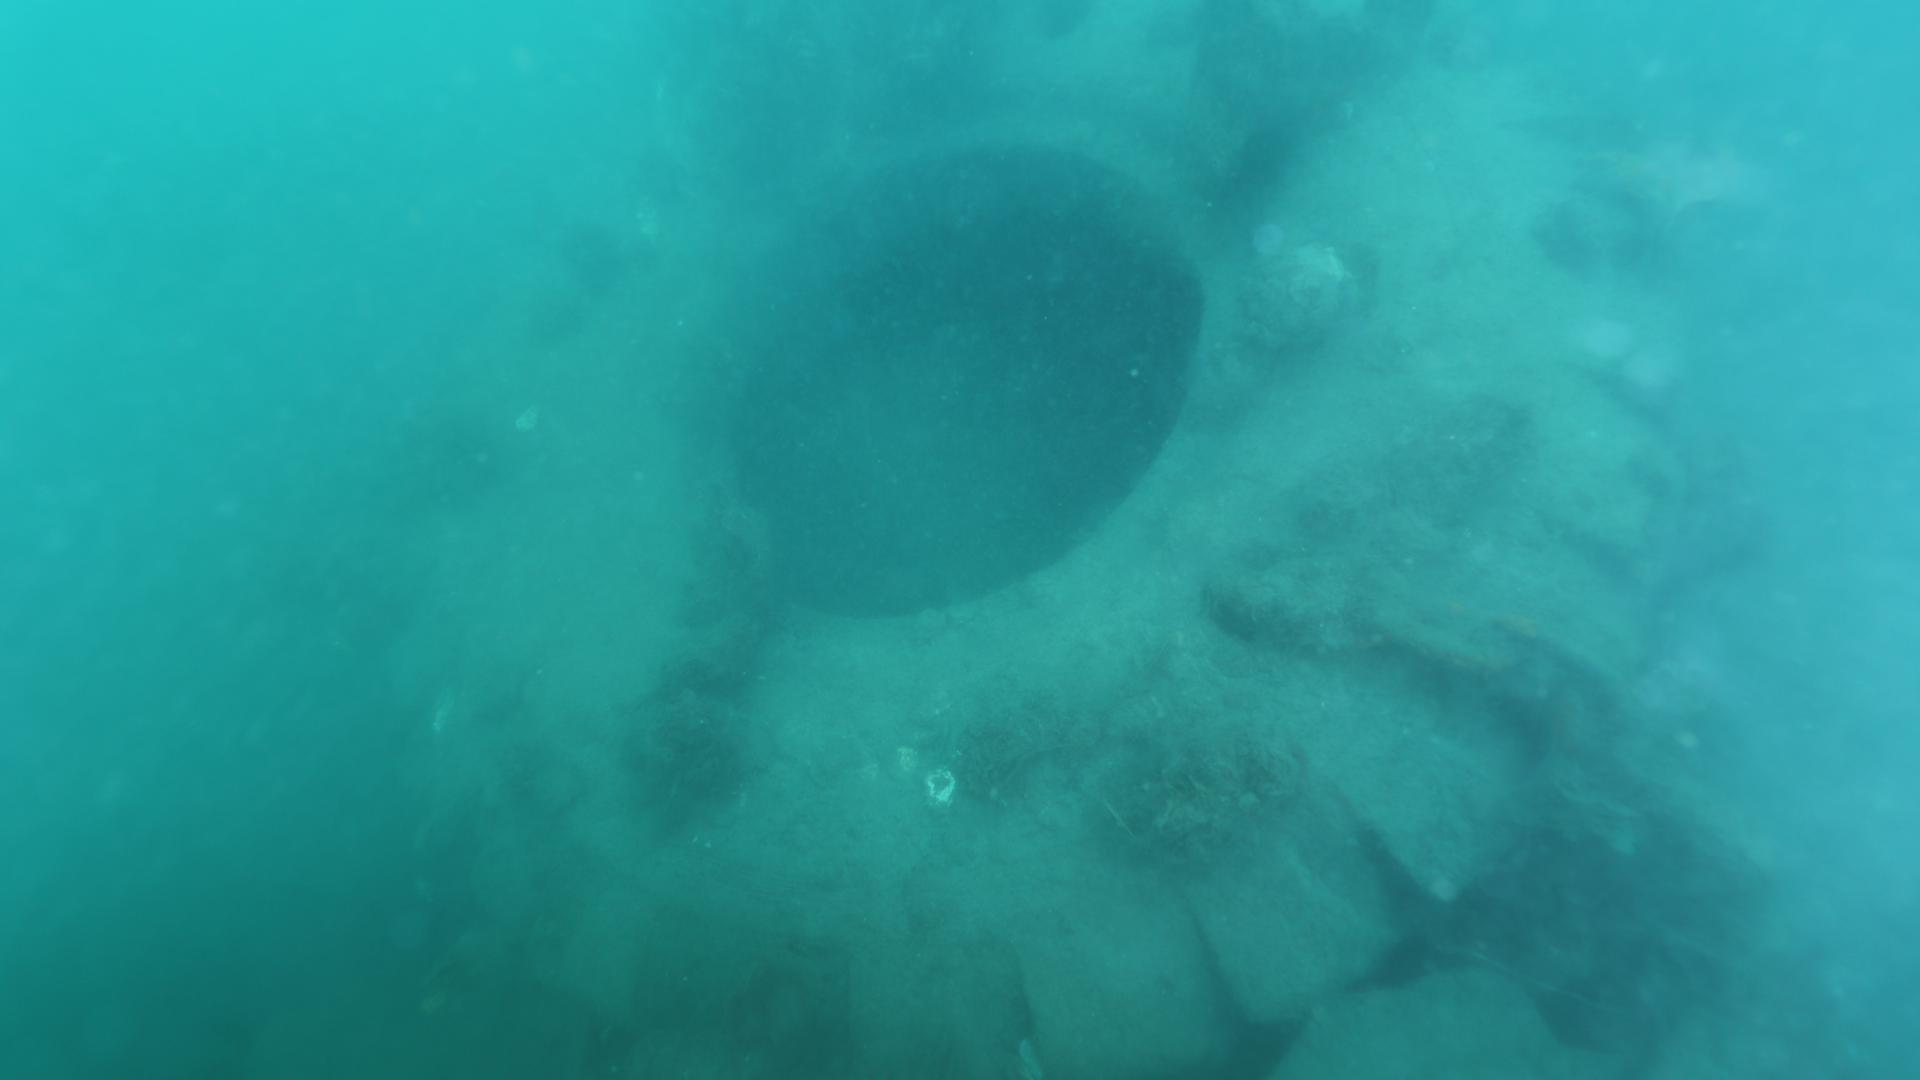tire: (388, 1, 1689, 1080)
